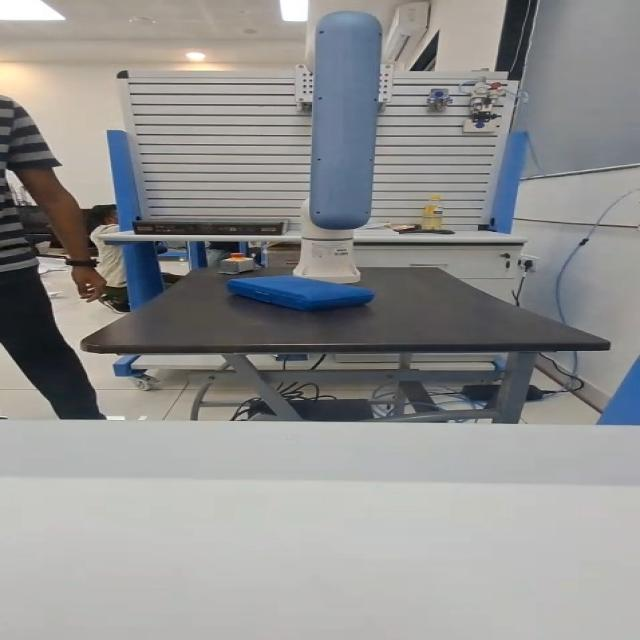top-surface: (262, 278, 335, 290)
